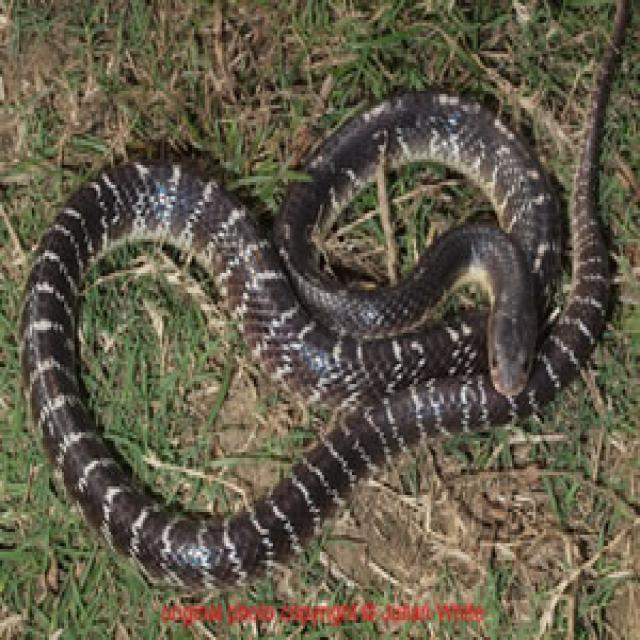Snake: (12, 0, 633, 597)
